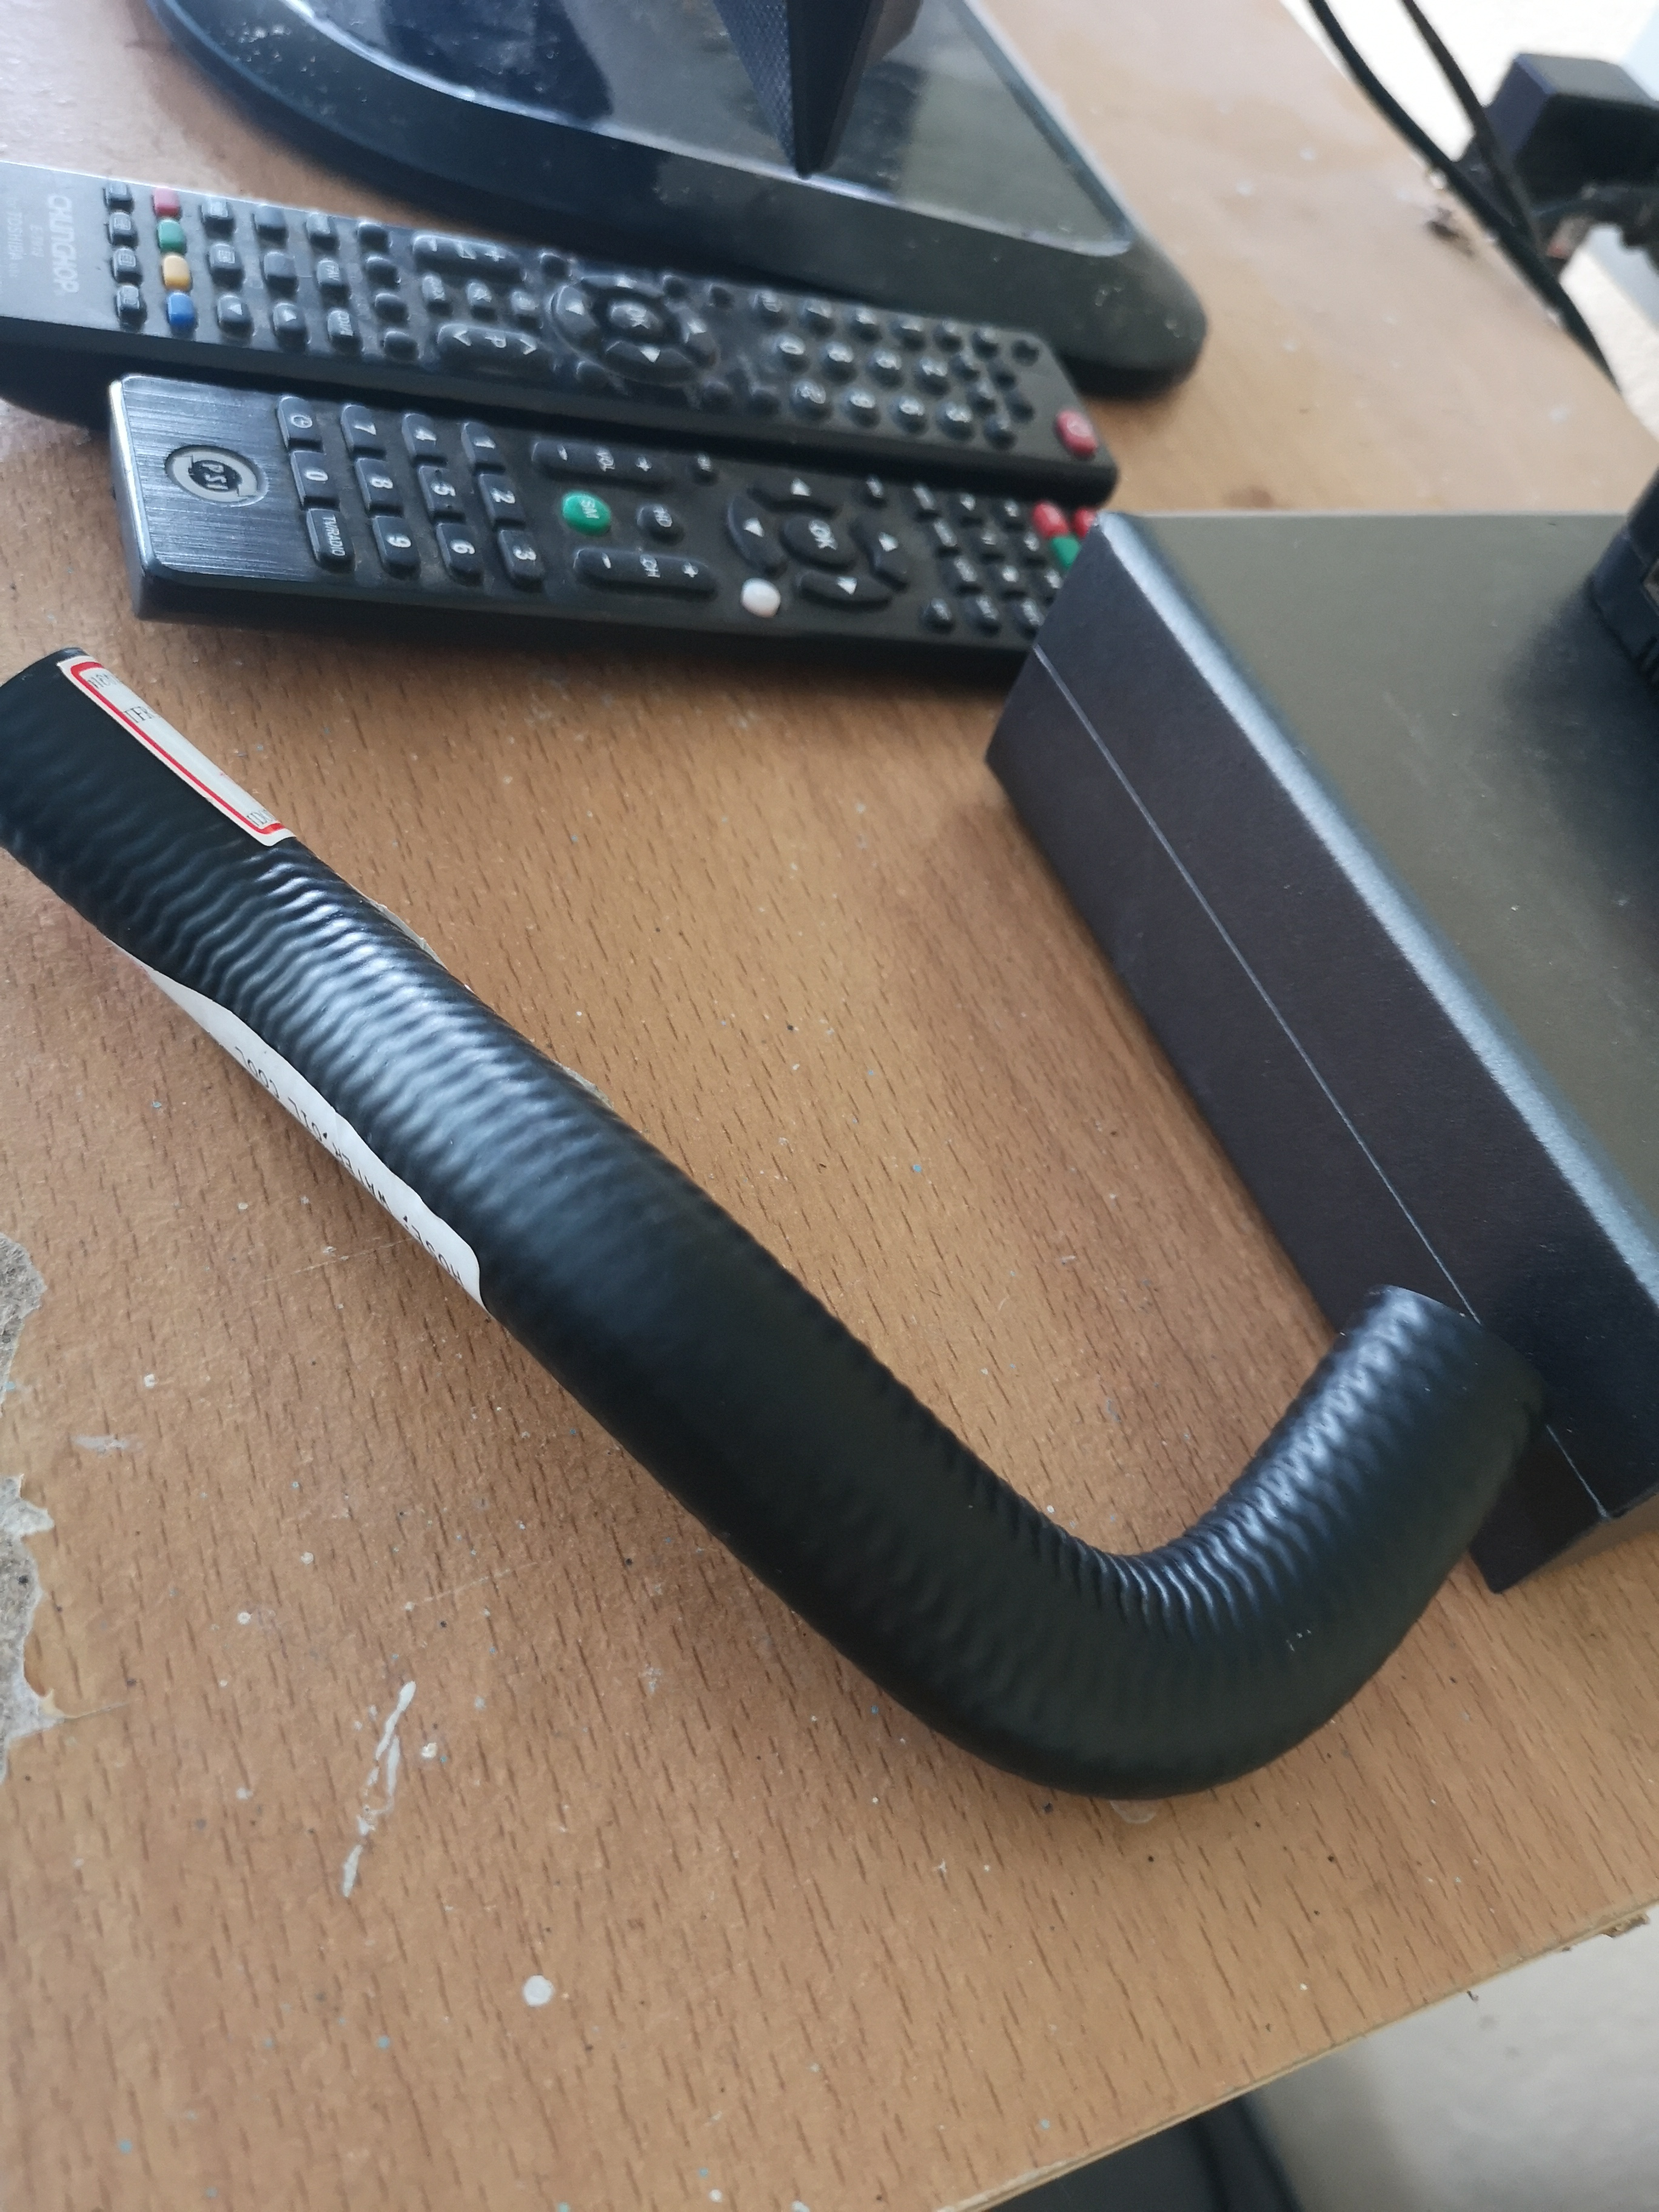ท่อยางน้ำมันเลี้ยงเทอร์โบ: (9, 509, 1534, 1878)
